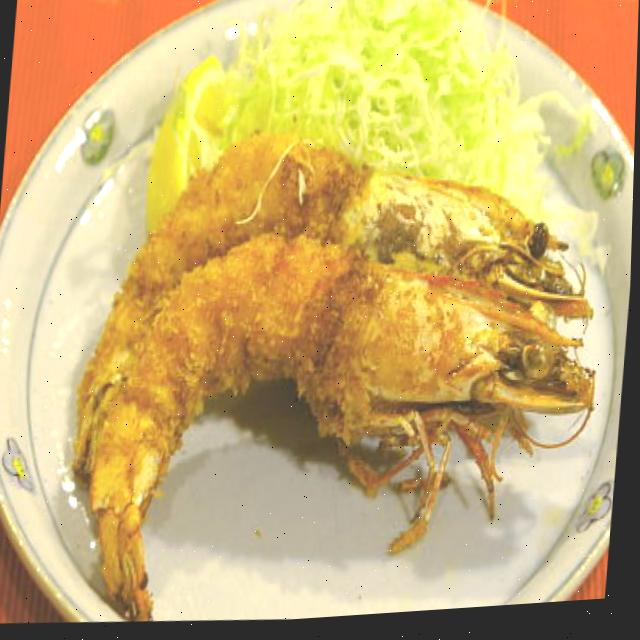炸货点心: (45, 100, 624, 637)
熟制海鲜: (45, 100, 624, 637)
